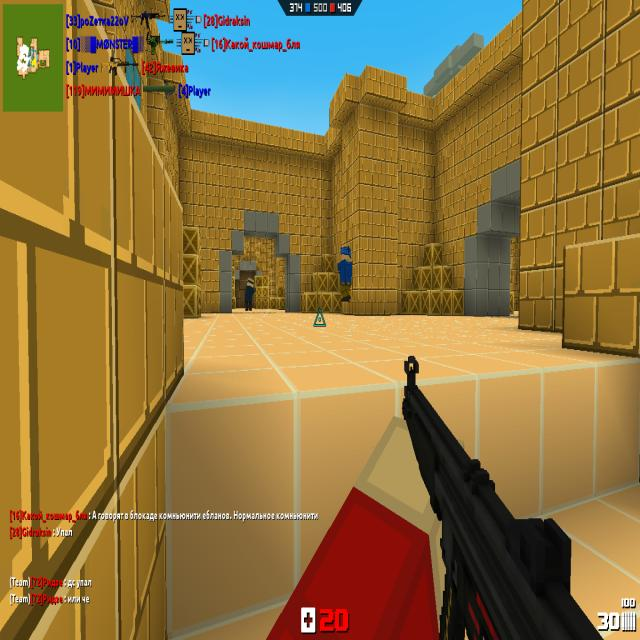enemy: (337, 246, 352, 302), (244, 278, 254, 310)
